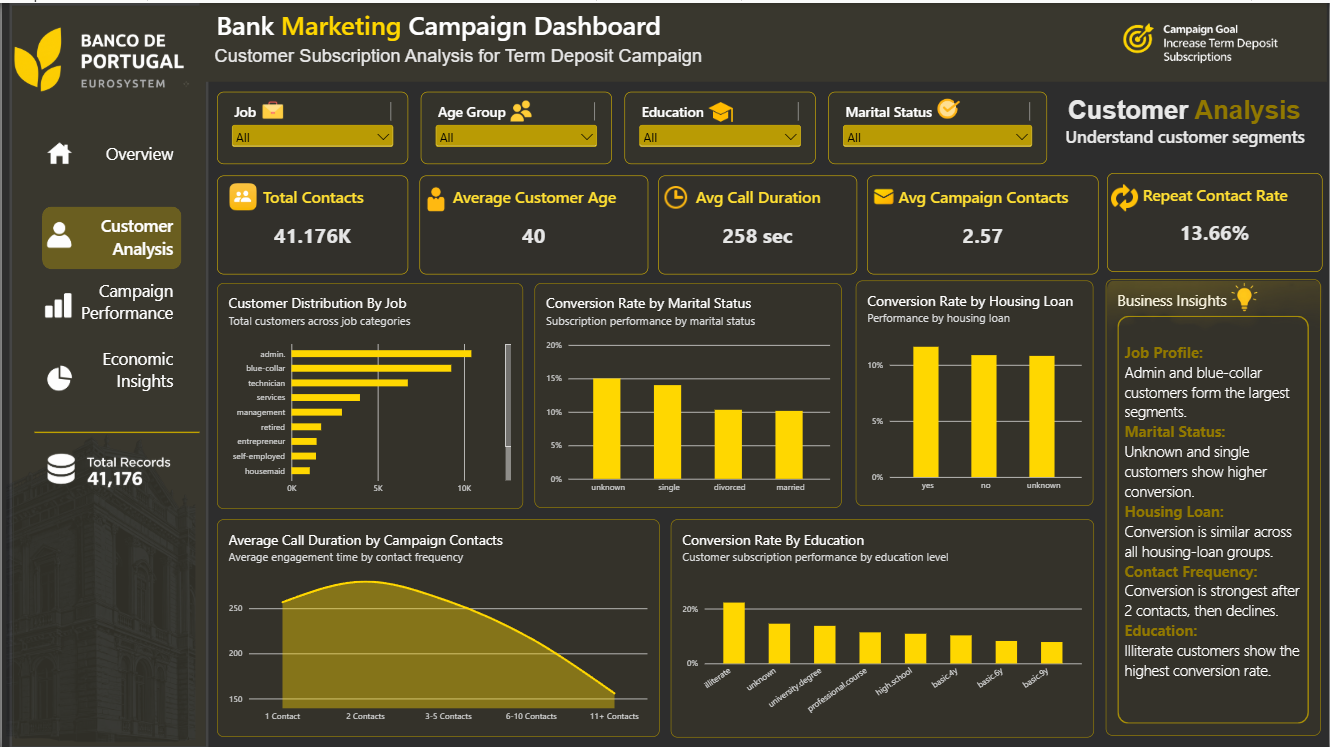

This screenshot's page, from the dashboard's own definition file:
{"tool":"powerbi","page":{"name":"Customer Analysis","canvas":[1920,1080],"ordinal":1},"visuals":[{"type":"card","title":"Total Contacts","fields":{"Values":["Cleaned_Bank_Data.Total Contacts"]},"box":[311.6,248.9,277,142.8],"z":0},{"type":"card","title":"Average Customer Age","fields":{"Values":["Cleaned_Bank_Data.Average Age"]},"box":[603.8,248.9,331.1,142.8],"z":1000},{"type":"card","title":"Avg Call Duration","fields":{"Values":["Cleaned_Bank_Data.Average Call Duration KPI"]},"box":[950.1,248.9,287.8,142.8],"z":2000},{"type":"card","title":"Repeat Contact Rate","fields":{"Values":["Cleaned_Bank_Data.Repeat Contact Rate"]},"box":[1599.3,246.7,311.6,142.8],"z":3000},{"type":"card","title":"Avg Campaign Contacts","fields":{"Values":["Cleaned_Bank_Data.Average Campaign Contacts"]},"box":[1253,248.9,335.4,142.8],"z":4000},{"type":"columnChart","title":"Conversion Rate by Housing Loan","fields":{"Category":["Cleaned_Bank_Data.housing"],"Y":["Cleaned_Bank_Data.Conversion Rate"]},"box":[1235.7,402.5,344.1,326.8],"z":5000},{"type":"clusteredColumnChart","title":"Conversion Rate by Marital Status","fields":{"Category":["Cleaned_Bank_Data.marital"],"Y":["Cleaned_Bank_Data.Conversion Rate"]},"box":[770.9,405.4,445.2,325.7],"z":6000},{"type":"clusteredBarChart","title":"Customer Distribution By Job","fields":{"Category":["Cleaned_Bank_Data.job"],"Y":["Cleaned_Bank_Data.Total Contacts"]},"box":[311.3,405.4,443,327],"z":7000},{"type":"columnChart","title":"Conversion Rate By Education","fields":{"Category":["Cleaned_Bank_Data.education"],"Y":["Cleaned_Bank_Data.Conversion Rate"]},"box":[967.4,746.6,612.5,316],"z":8000},{"type":"areaChart","title":"Average Call Duration by Campaign Contacts","fields":{"Category":["Cleaned_Bank_Data.campaign_contact_group"],"Y":["Cleaned_Bank_Data.Average Call Duration"]},"box":[311.3,747.4,640.6,314.9],"z":9000},{"type":"shape","box":[10,0,287.7,1080.4],"z":10000},{"type":"image","box":[0,0,287.7,162.9],"z":11000},{"type":"shape","box":[285.9,0,1632.3,114],"z":12000},{"type":"textbox","box":[298.6,0,787.2,114],"z":13000},{"type":"image","box":[0,584.3,285.7,495.6],"z":14000},{"type":"image","box":[1567.2,0,336.6,114],"z":15000},{"type":"pageNavigator","box":[57.9,195.4,202.7,389.1],"z":16000},{"type":"image","box":[59.7,298.6,47.1,72.4],"z":17000},{"type":"image","box":[59.7,181,47.1,72.4],"z":18000},{"type":"image","box":[57.9,399.9,47.1,72.4],"z":19000},{"type":"image","box":[59.7,506.7,47.1,72.4],"z":20000},{"type":"shape","box":[47.1,555.6,238.9,132.1],"z":21000},{"type":"slicer","fields":{"Values":["Cleaned_Bank_Data.job"]},"box":[311.3,128.6,277,105],"z":22000},{"type":"slicer","fields":{"Values":["Cleaned_Bank_Data.age_group"]},"box":[606.2,128.6,276.9,105],"z":23000},{"type":"slicer","fields":{"Values":["Cleaned_Bank_Data.education"]},"box":[901.2,128.6,276.9,105],"z":24000},{"type":"slicer","fields":{"Values":["Cleaned_Bank_Data.marital"]},"box":[1196.2,128.5,316.7,105],"z":25000},{"type":"image","box":[367.9,134.2,49.8,39],"z":26000},{"type":"image","box":[727.2,140.7,47.6,30.3],"z":27000},{"type":"image","box":[1019.3,140.7,43,35],"z":28000},{"type":"image","box":[1346.1,134.2,47.6,38],"z":29000},{"type":"shape","title":"Business Insights","box":[1597.9,399.9,311.3,660.5],"z":30000},{"type":"textbox","box":[1625.3,491.3,259.7,519.4],"z":31000},{"type":"image","box":[1599.3,400.4,311.6,179.6],"z":32000},{"type":"image","box":[328.9,248.9,39,61],"z":33000},{"type":"image","box":[1237.9,251,84.4,67.1],"z":34000},{"type":"image","box":[47.1,622.5,213.5,108.6],"z":35000},{"type":"image","box":[1735.5,392.7,126.7,68.8],"z":36000},{"type":"image","box":[610.3,248.9,37,69],"z":37000},{"type":"image","box":[958.7,248.9,33,63],"z":38000},{"type":"image","box":[1601.5,261.9,47.6,39],"z":39000},{"type":"textbox","box":[1532.2,134.2,372.2,97.4],"z":40000}]}

Visuals, with their boxes on the page's 1920x1080 design canvas (x1, y1, x2, y2). These are canvas units, not pixel positions in the 1330x747 screenshot, which may show the page scaled, cropped or inside an application window:
"Total Contacts" card: l=312, t=249, r=589, b=392
"Average Customer Age" card: l=604, t=249, r=935, b=392
"Avg Call Duration" card: l=950, t=249, r=1238, b=392
"Repeat Contact Rate" card: l=1599, t=247, r=1911, b=390
"Avg Campaign Contacts" card: l=1253, t=249, r=1588, b=392
"Conversion Rate by Housing Loan" columnChart: l=1236, t=402, r=1580, b=729
"Conversion Rate by Marital Status" clusteredColumnChart: l=771, t=405, r=1216, b=731
"Customer Distribution By Job" clusteredBarChart: l=311, t=405, r=754, b=732
"Conversion Rate By Education" columnChart: l=967, t=747, r=1580, b=1063
"Average Call Duration by Campaign Contacts" areaChart: l=311, t=747, r=952, b=1062
shape: l=10, t=0, r=298, b=1080
image: l=0, t=0, r=288, b=163
shape: l=286, t=0, r=1918, b=114
textbox: l=299, t=0, r=1086, b=114
image: l=0, t=584, r=286, b=1080
image: l=1567, t=0, r=1904, b=114
pageNavigator: l=58, t=195, r=261, b=584
image: l=60, t=299, r=107, b=371
image: l=60, t=181, r=107, b=253
image: l=58, t=400, r=105, b=472
image: l=60, t=507, r=107, b=579
shape: l=47, t=556, r=286, b=688
slicer - Cleaned_Bank_Data.job: l=311, t=129, r=588, b=234
slicer - Cleaned_Bank_Data.age_group: l=606, t=129, r=883, b=234
slicer - Cleaned_Bank_Data.education: l=901, t=129, r=1178, b=234
slicer - Cleaned_Bank_Data.marital: l=1196, t=128, r=1513, b=234
image: l=368, t=134, r=418, b=173
image: l=727, t=141, r=775, b=171
image: l=1019, t=141, r=1062, b=176
image: l=1346, t=134, r=1394, b=172
"Business Insights" shape: l=1598, t=400, r=1909, b=1060
textbox: l=1625, t=491, r=1885, b=1011
image: l=1599, t=400, r=1911, b=580
image: l=329, t=249, r=368, b=310
image: l=1238, t=251, r=1322, b=318
image: l=47, t=622, r=261, b=731
image: l=1736, t=393, r=1862, b=462
image: l=610, t=249, r=647, b=318
image: l=959, t=249, r=992, b=312
image: l=1602, t=262, r=1649, b=301
textbox: l=1532, t=134, r=1904, b=232
